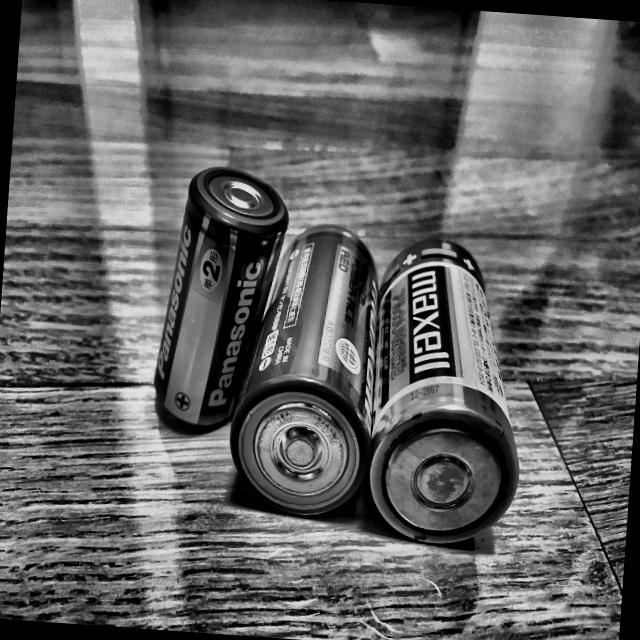drycell: (220, 204, 397, 530), (147, 157, 296, 443)
